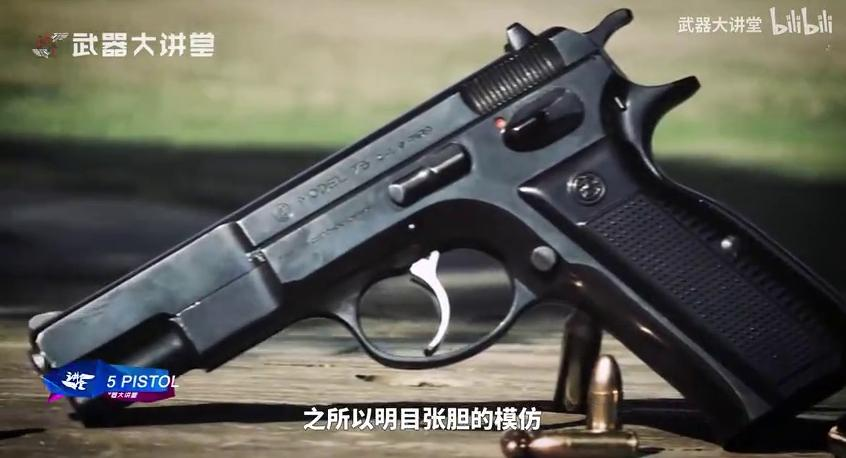gun: (1, 0, 846, 458)
